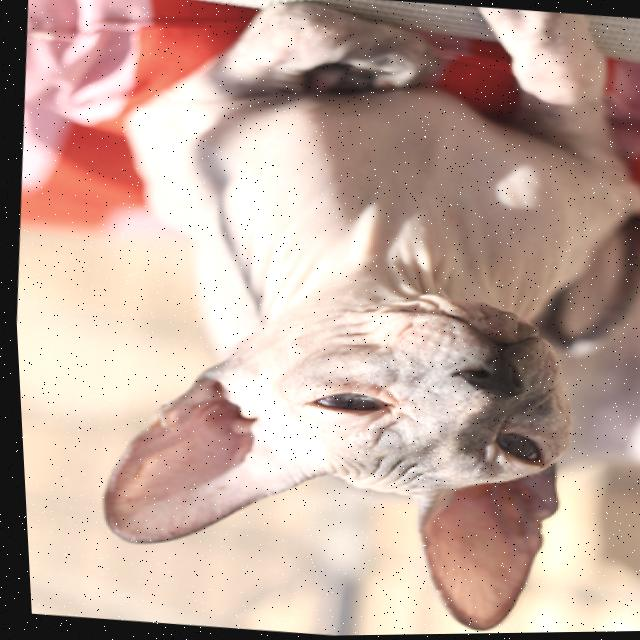Sphynx: (54, 0, 640, 639)
